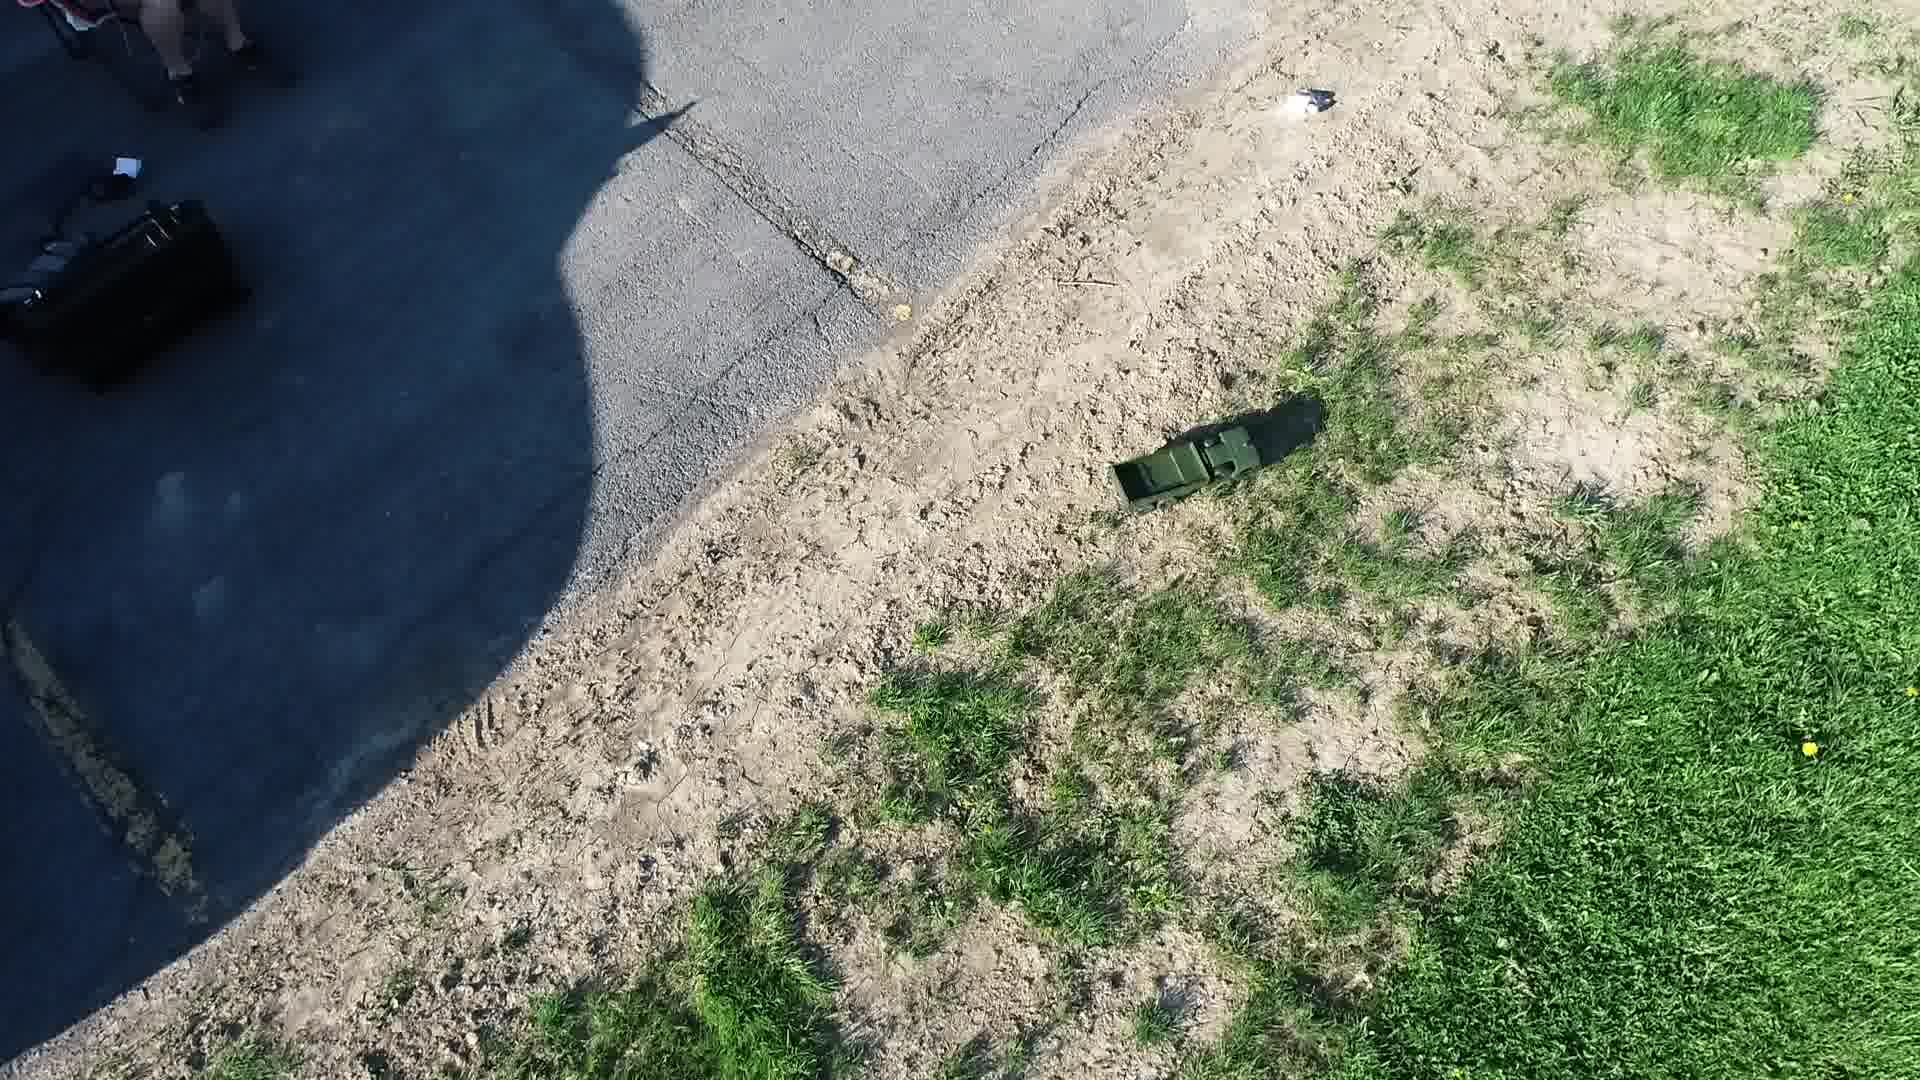transporter9: (1095, 417, 1271, 518)
